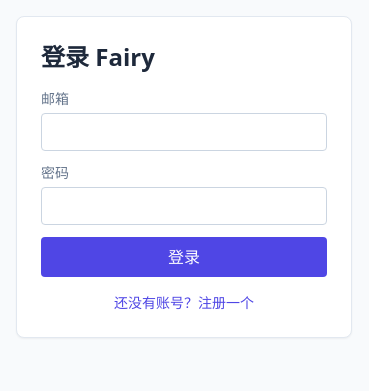
Test case: LoginPage › shows the error message when login fails
This screenshot has width=369, height=391.
Type "user@fairy.local" into the field labelled "邮箱".
click(184, 132); type("user@fairy.local")  # box [41,113,327,151]
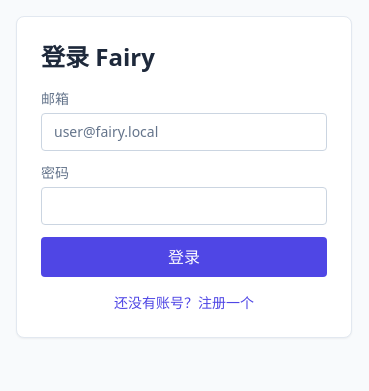
Type "wrong" into the password field labelled "密码".
click(184, 206); type("wrong")  # box [41,187,327,225]
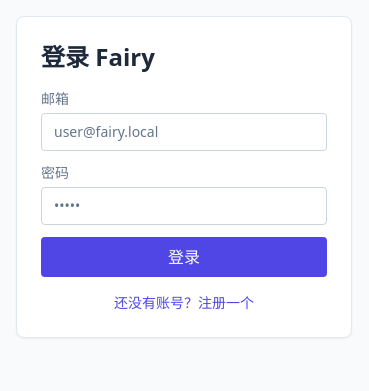
Click the button "登录".
click(184, 257)  # box [41,237,327,277]
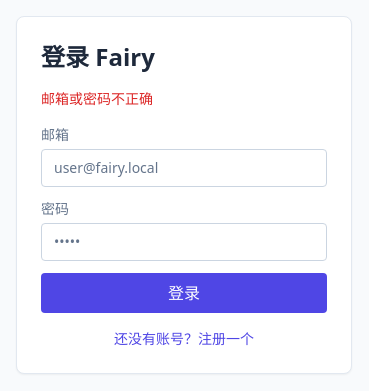
Check: the text "邮箱或密码不正确" is shown, box [41,89,153,108]
